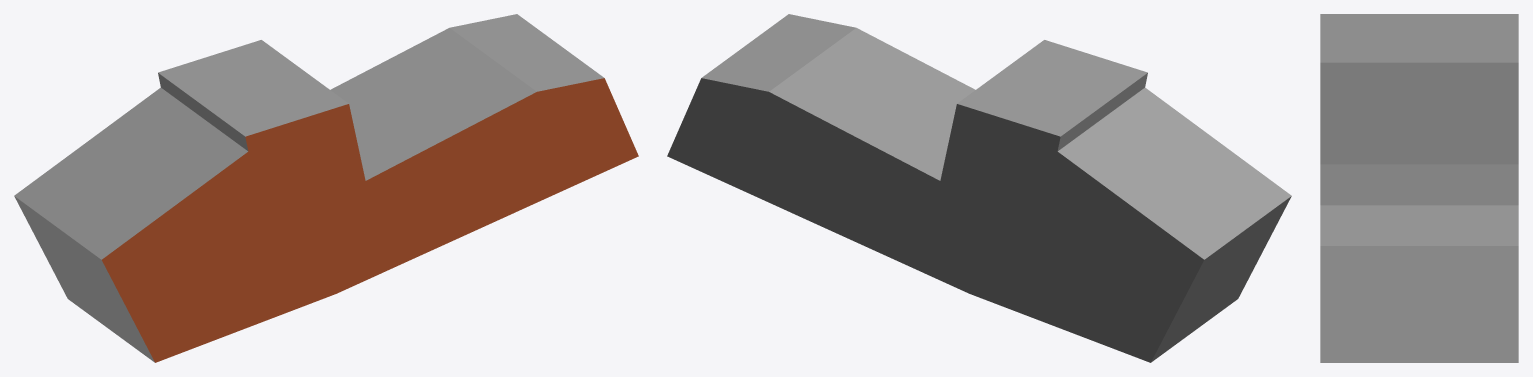
Rendered from construction_4314_assumed_A_Casa_h6m.obj.
3 views of the same model, side by side, from view 1: azimuth 30°, elevation 25°; view 2: azimuth 150°, elevation 25°; view 3: azimuth 270°, elevation 25° (orthographic). The views are drawn at different scales.
Visible parts, largest first — view 1: construction_4314_assumed_A_Casa; view 2: construction_4314_assumed_A_Casa; view 3: construction_4314_assumed_A_Casa.
Part boxes in pixels (<box>): construction_4314_assumed_A_Casa: <box>14,14,638,362</box>; construction_4314_assumed_A_Casa: <box>667,14,1291,362</box>; construction_4314_assumed_A_Casa: <box>1320,14,1518,362</box>.
Size of the model in its own units: 21.27 by 8.02 by 6.
